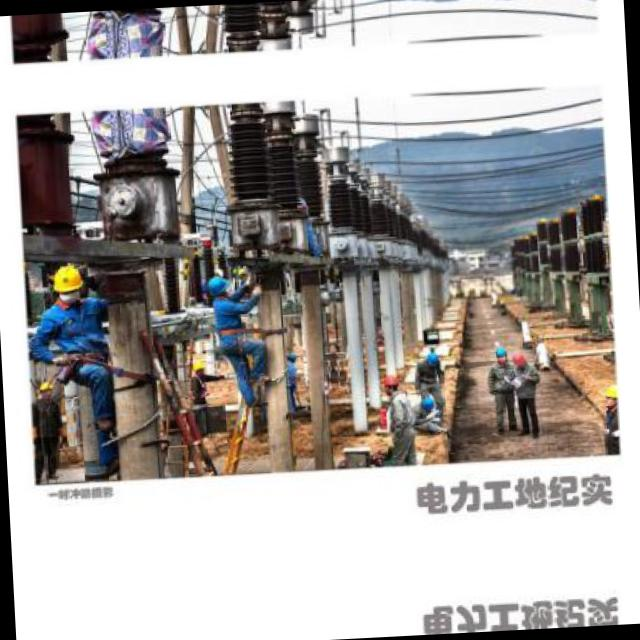helmet: (49, 260, 89, 310), (372, 367, 403, 399), (593, 378, 619, 414), (205, 270, 231, 304), (418, 391, 440, 414), (422, 347, 444, 370), (490, 342, 508, 364), (511, 349, 528, 372), (189, 359, 207, 380)
